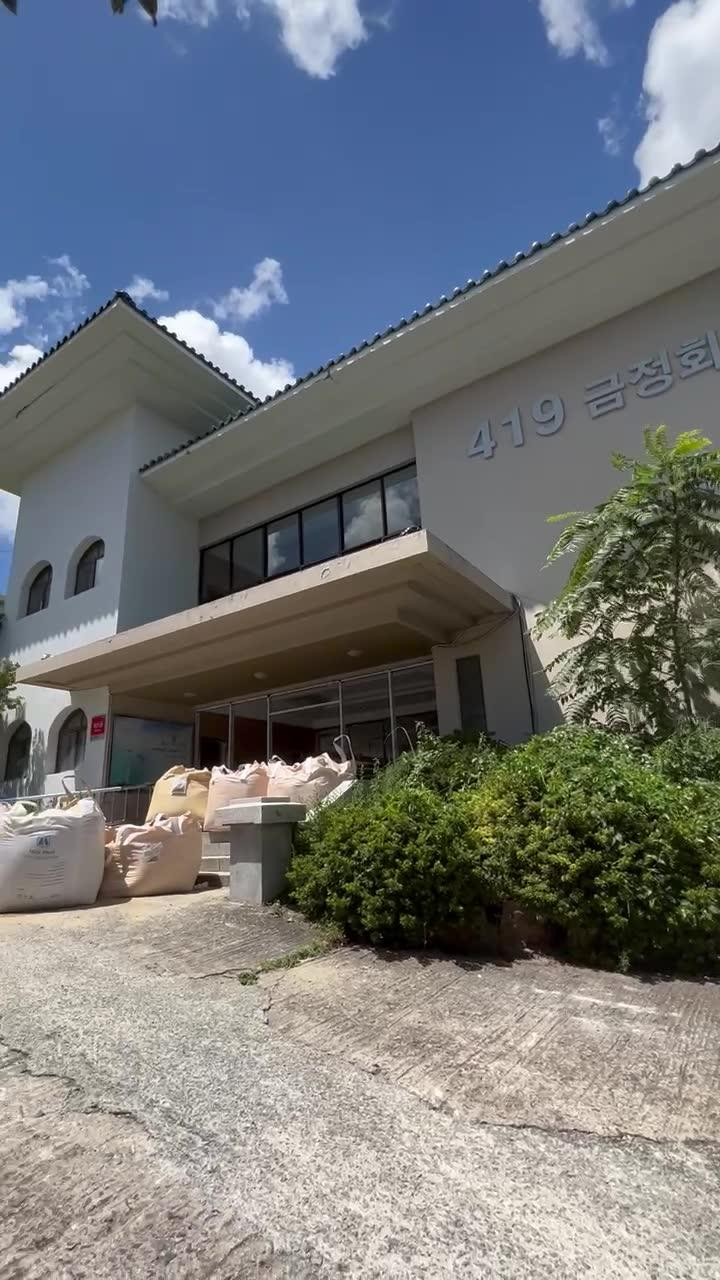building: (22, 146, 720, 756)
